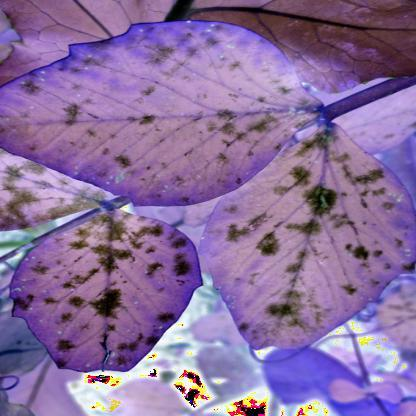Squash Powdery mildew leaf: (1, 18, 338, 210), (196, 120, 415, 359), (1, 198, 207, 378)
